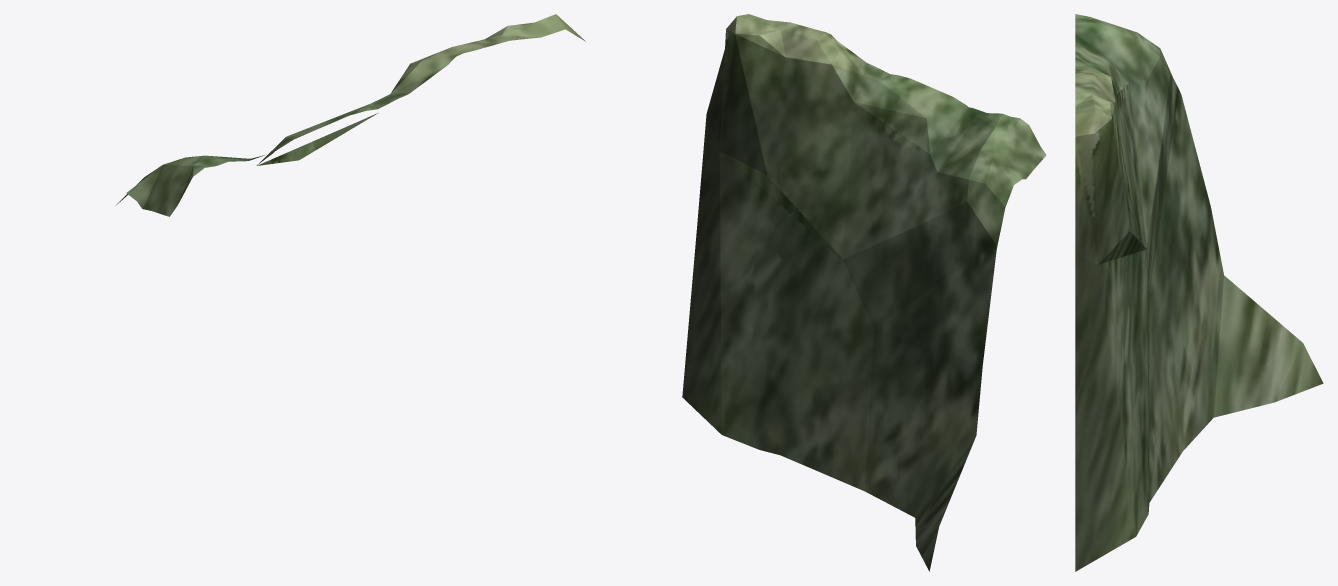
The picture shows the model from 3 angles, left to right: view 1: azimuth 30°, elevation 25°; view 2: azimuth 150°, elevation 25°; view 3: azimuth 270°, elevation 25°; orthographic projection. The views are drawn at different scales.
Size of the model in its own units: 2.03 by 2.15 by 1.13.
Materials: 1 (1 with a texture image).
